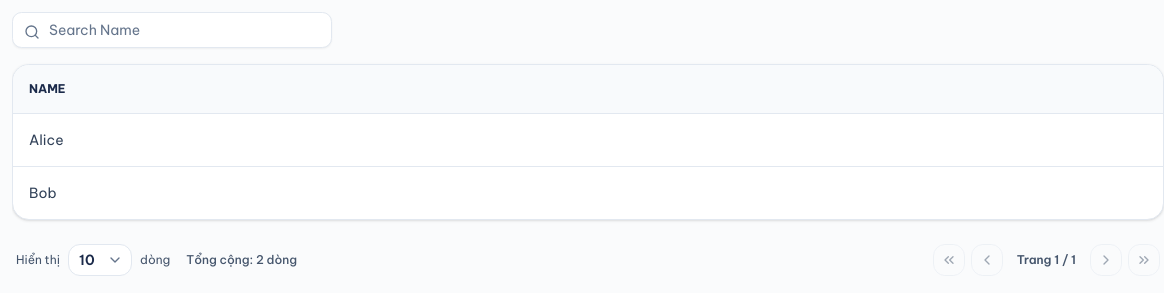
Test: DataTable › filters data based on search
The width and height of the screenshot is (1164, 293).
In the field with placeholder "Search Name": (172, 30) [12,12,332,48], type "Alice"
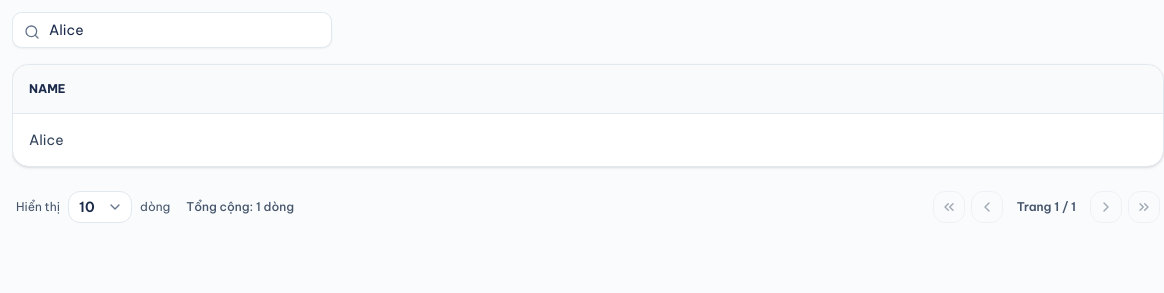
Expected: the text "Alice" is shown, [13,114,1163,166]
Now the text "Bob" is gone
